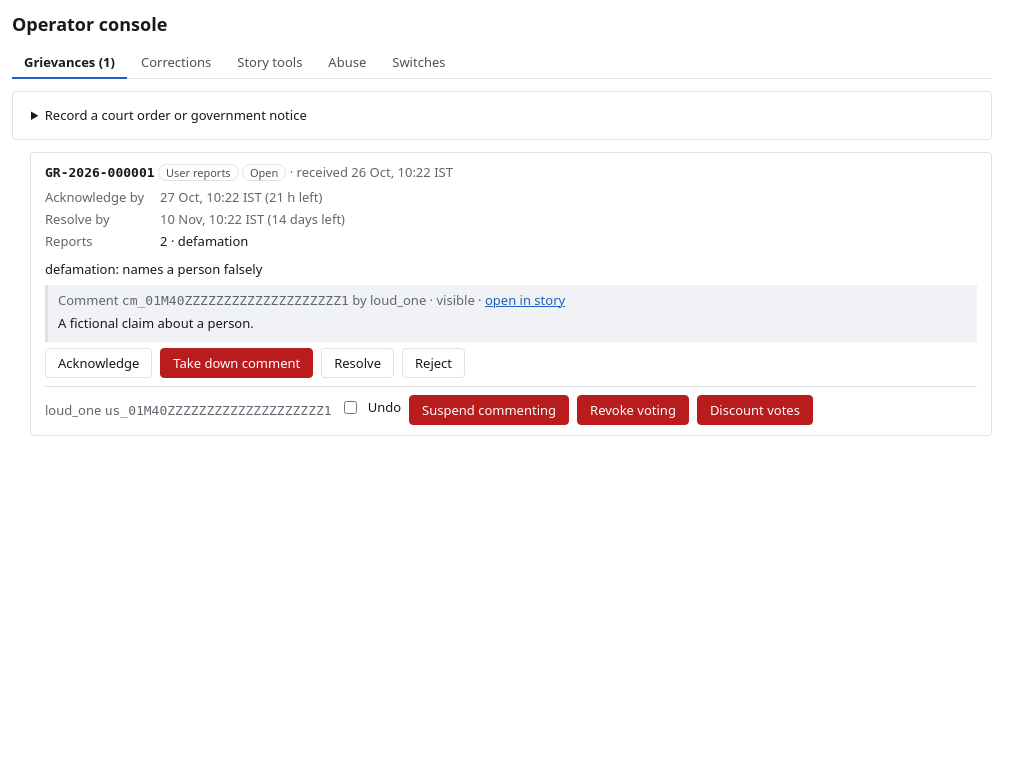
Test: operator console (PRD-006 §5, PRD-002 US-002.11, PRD-004 US-004.4 AC-5) › take-down sends the category and the grievance; the outcome survives the card re-rendering
What coordinates should you click on to do the following:
click the button "Take down comment"
I would click on:
 (237, 363)
Its box is 160,348 -> 313,378.
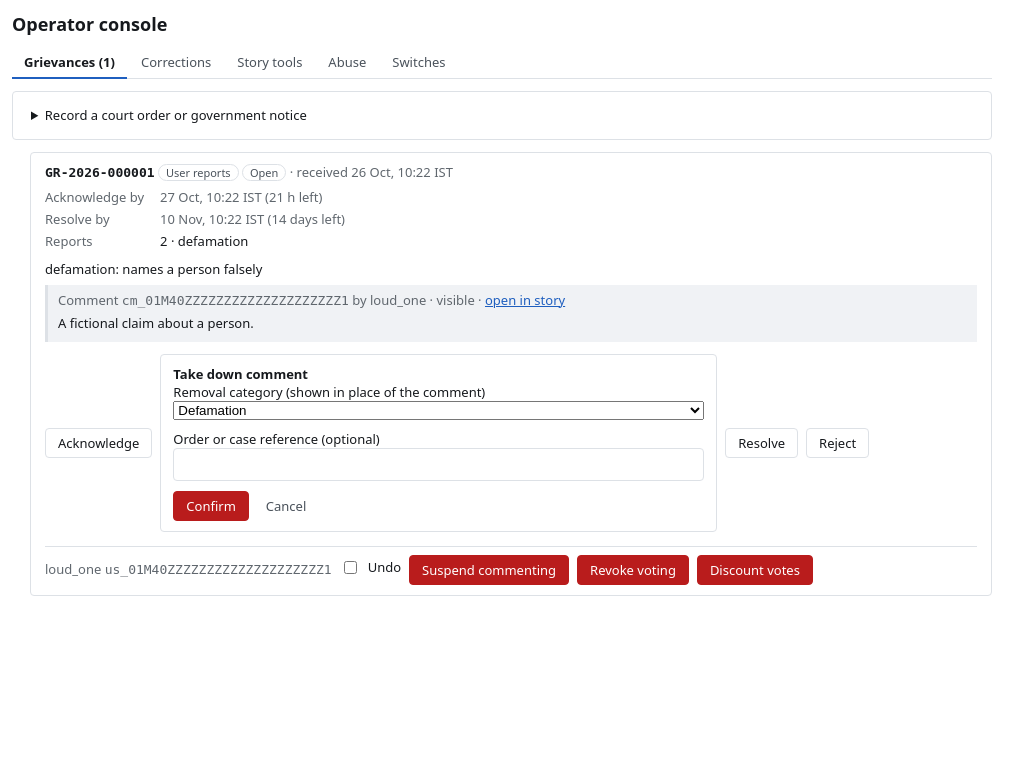
What coordinates should you click on to do the following:
click the button "Confirm"
I would click on:
 (211, 506)
Its box is 173,491 -> 249,521.
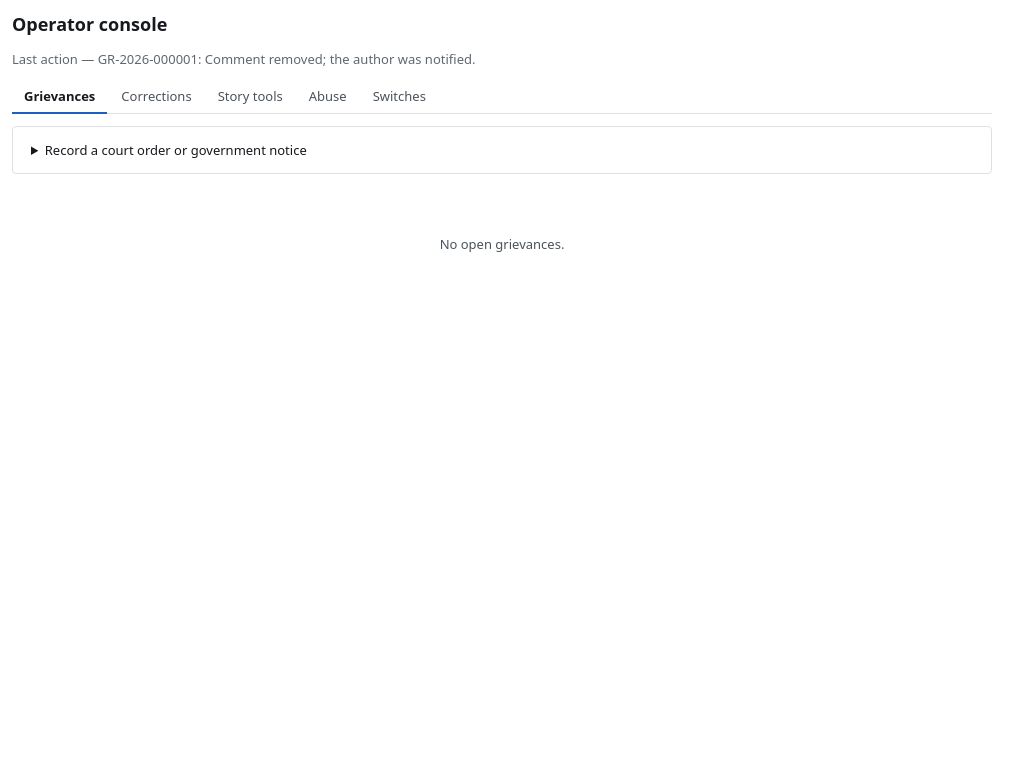
Now the text "Last action — GR-2026-000001: Comment removed; the author was notified." is shown, box 12,50 -> 475,68
